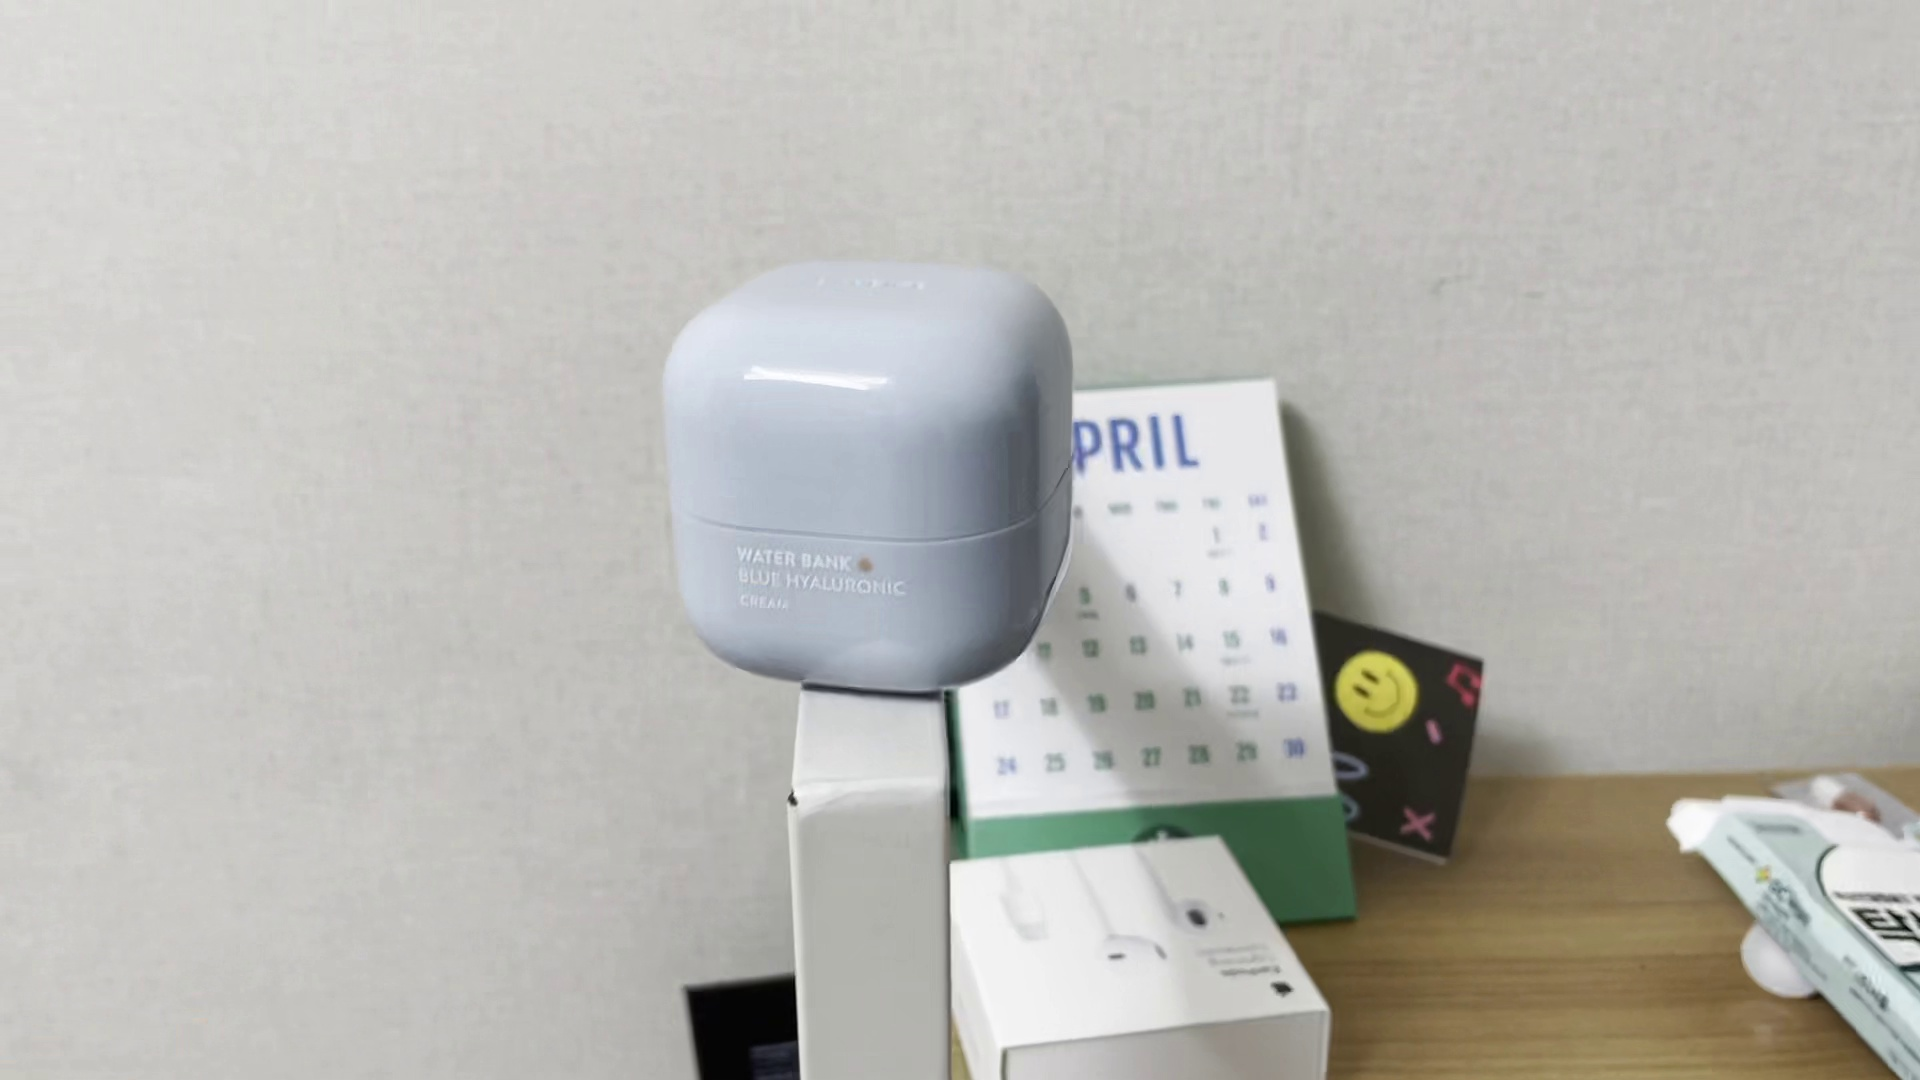cream: (667, 264, 1077, 690)
